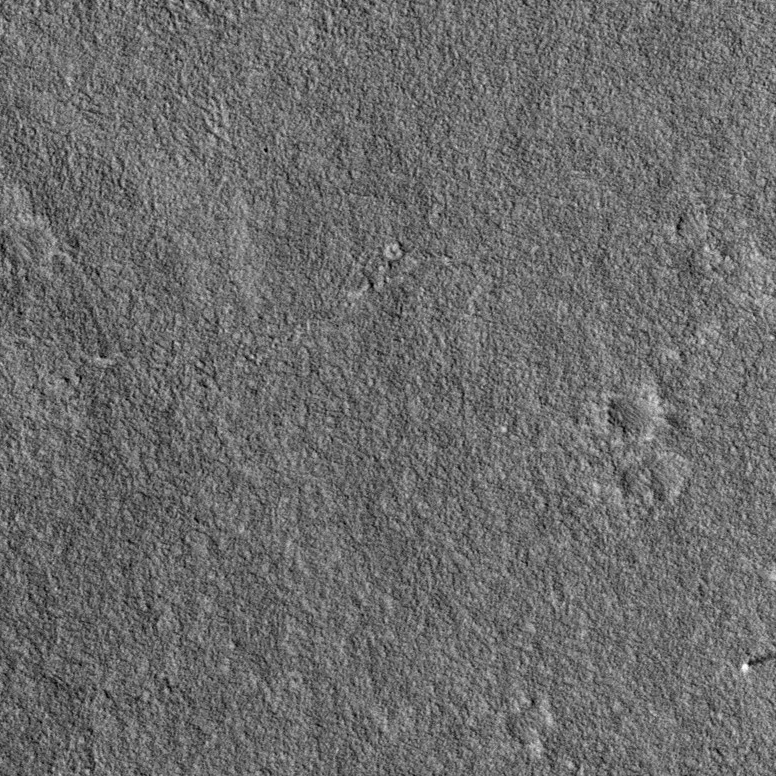dust_devil: (740, 652, 776, 675)
